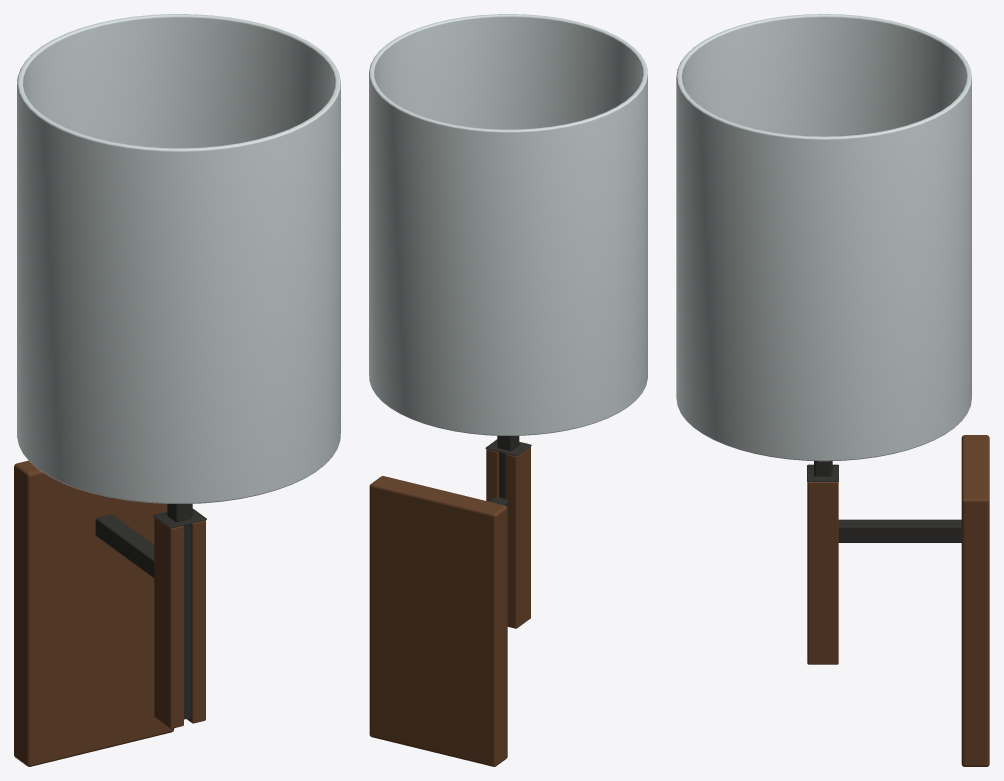
Rendered from Lamp.fbx.
The picture shows the model from 3 angles, left to right: view 1: azimuth 30°, elevation 25°; view 2: azimuth 150°, elevation 25°; view 3: azimuth 270°, elevation 25°; orthographic projection. The views are drawn at different scales.
Visible parts, largest first — view 1: lampshade, Object001, structure_lamp_wood, structure_lamp; view 2: lampshade, Object001, structure_lamp_wood, structure_lamp; view 3: lampshade, Object001, structure_lamp_wood, structure_lamp.
Boxes of the visible parts, x1,y1,x2,y2 form: lampshade: (17, 14, 340, 503); Object001: (14, 460, 174, 766); structure_lamp_wood: (154, 517, 205, 728); structure_lamp: (95, 504, 206, 719); lampshade: (369, 14, 647, 435); Object001: (369, 476, 507, 766); structure_lamp_wood: (486, 446, 530, 628); structure_lamp: (485, 435, 531, 515); lampshade: (676, 14, 971, 461); Object001: (961, 435, 989, 766); structure_lamp_wood: (807, 482, 838, 664); structure_lamp: (807, 461, 961, 542).
Bounding box in the file's own units: 0.9815 × 2.42 × 1.04.
